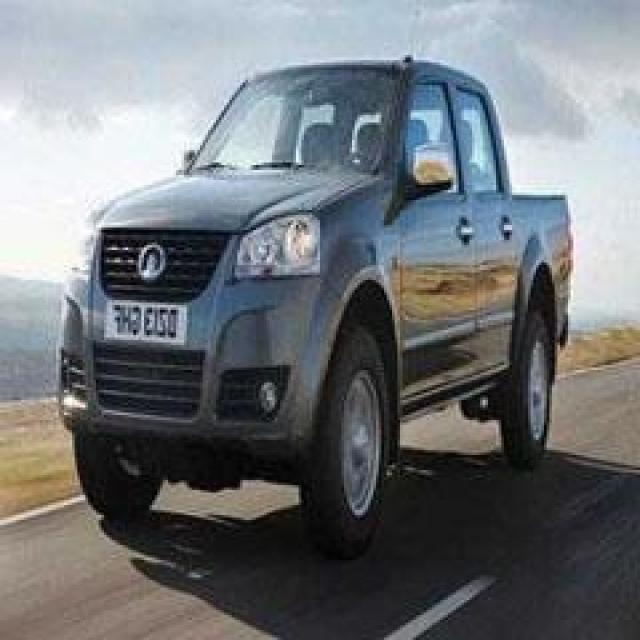car: (33, 36, 604, 574)
